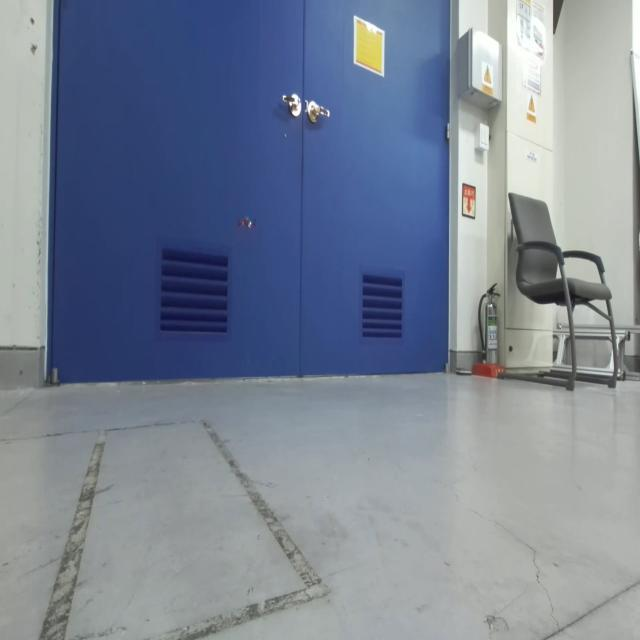crazyflie: (227, 205, 261, 243)
